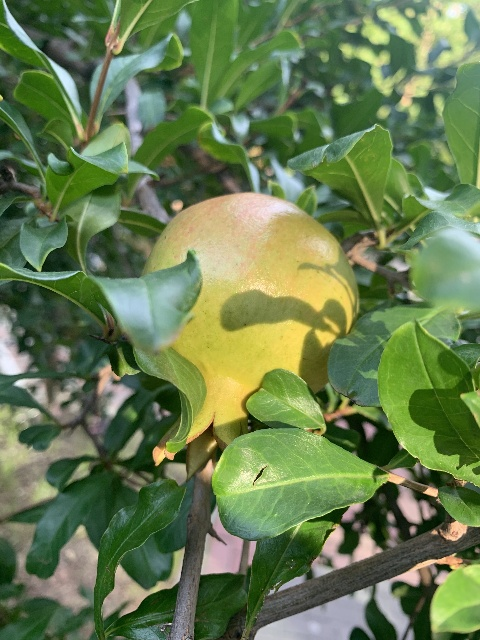mid-growth: (141, 192, 359, 481)
